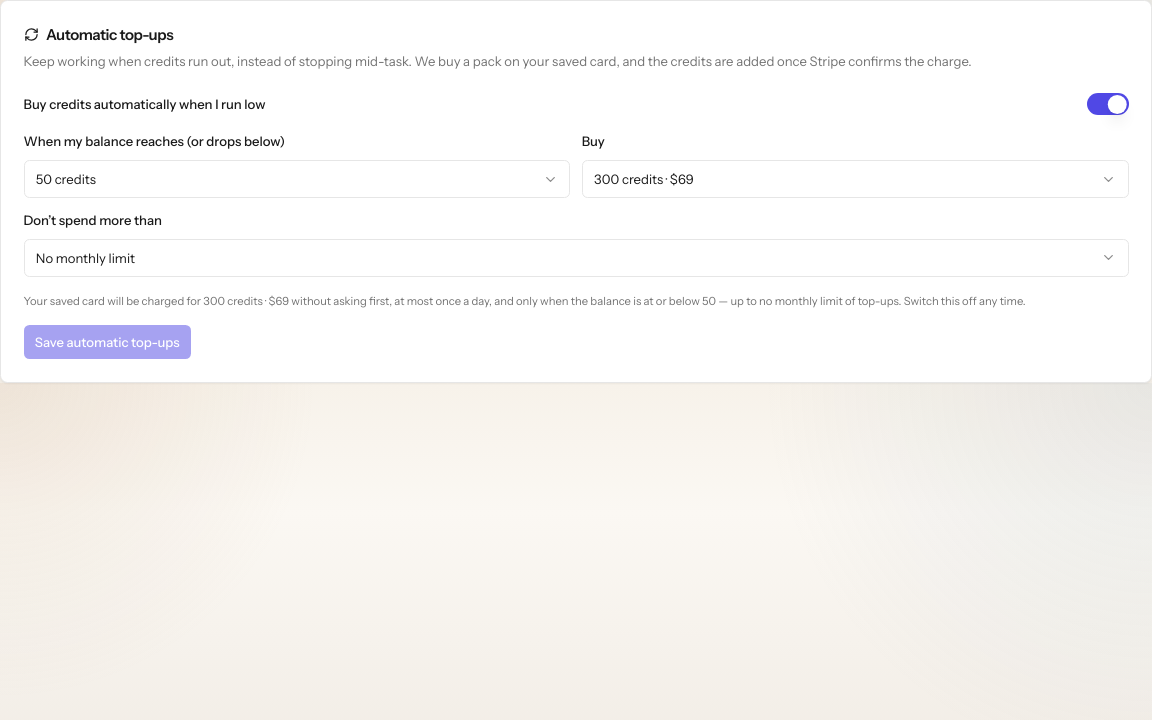
Test: AutoRefillCard monthly cap › changing only the cap arms Save (the cap is part of the dirty check)
Expected: the button "Save automatic top-ups" is disabled, [24,325,191,359]
Click the dropdown named "Don’t spend more than": (85,258) [24,239,1128,277]
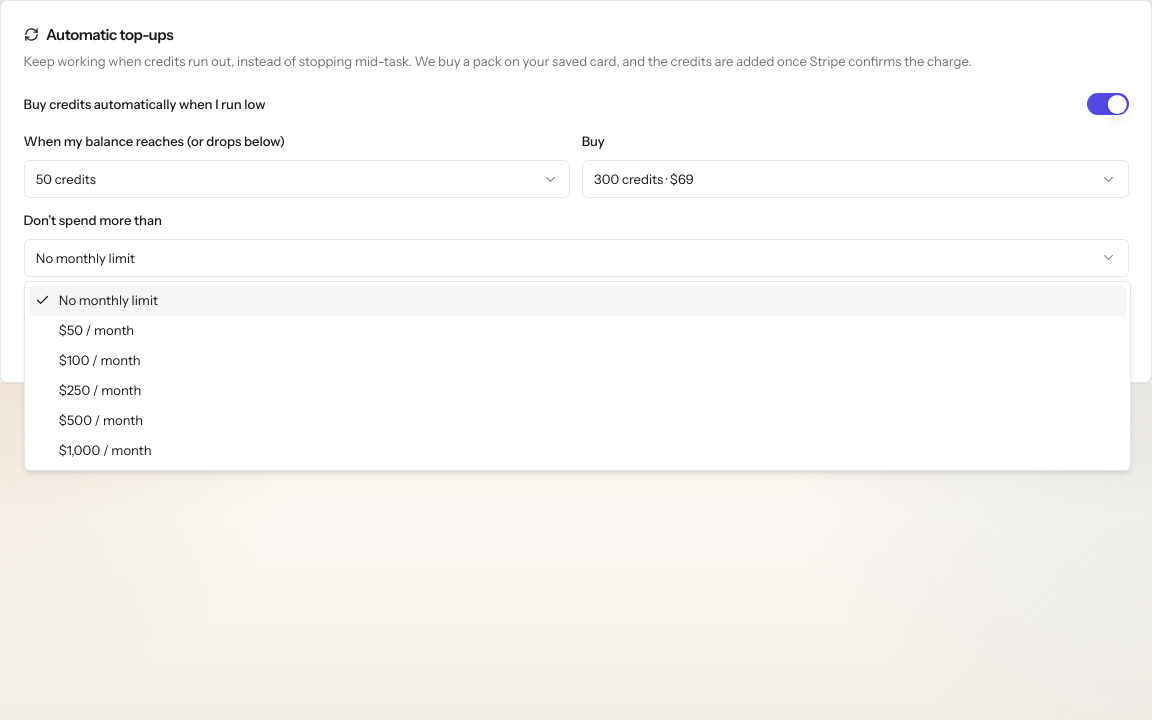
Click the option "$500 / month": (101,420) [59,412,143,428]
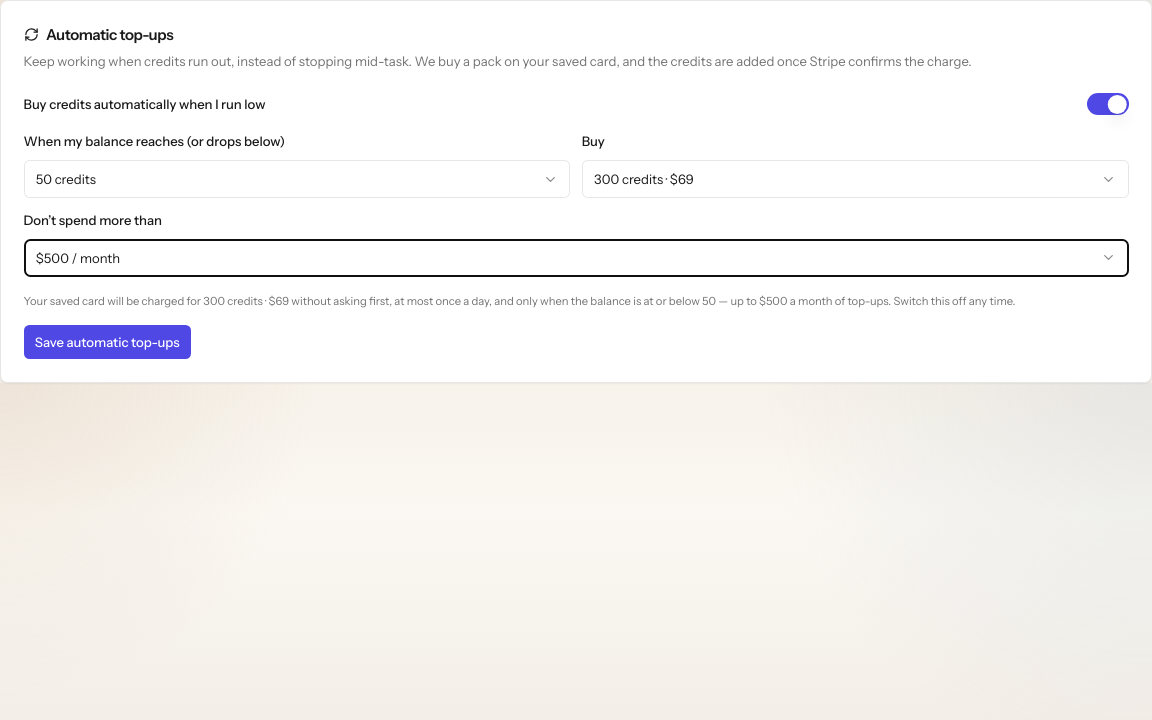
Result: the button "Save automatic top-ups" is enabled at [24,325,191,359]
